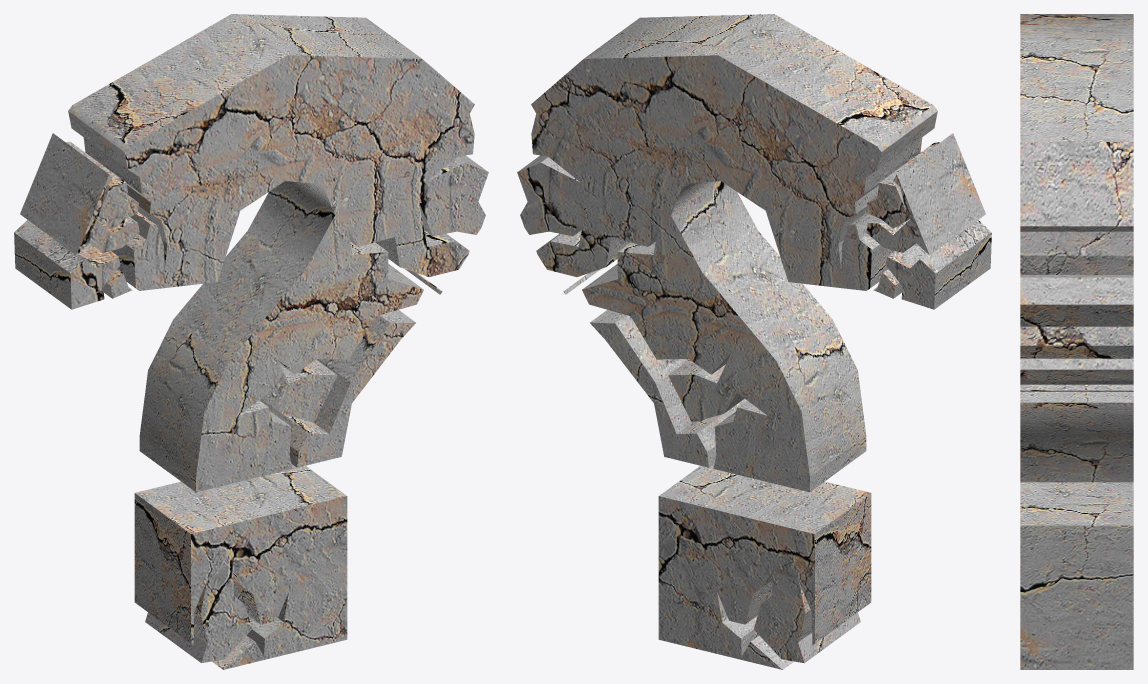
Rendered from Question.FBX.
The picture shows the model from 3 angles, left to right: view 1: azimuth 30°, elevation 25°; view 2: azimuth 150°, elevation 25°; view 3: azimuth 270°, elevation 25°; orthographic projection.
Visible parts, largest first — view 1: Question; view 2: Question; view 3: Question.
Part boxes in pixels (<box>): Question: <box>14,14,488,669</box>; Question: <box>517,14,991,669</box>; Question: <box>1020,14,1133,669</box>.
Bounding box in the file's own units: 64.26 × 87.89 × 15.
1 material, 1 textured.
